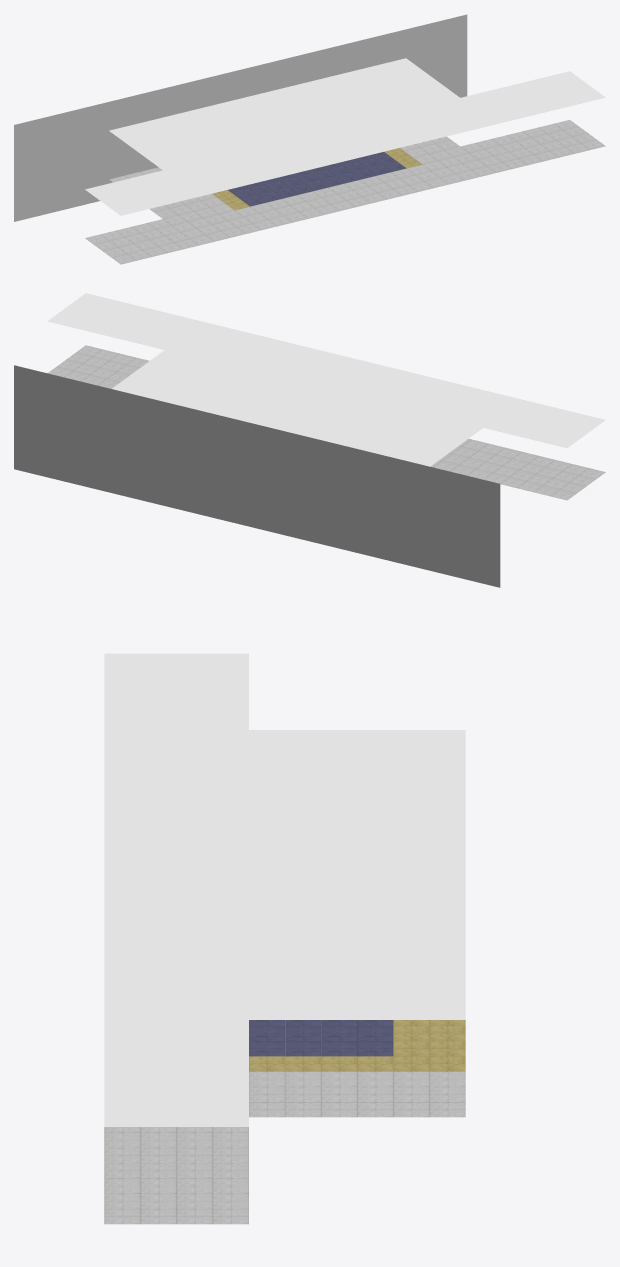
File: CW_Planes.fbx
3 renders of one model, top to bottom at view 1: azimuth 30°, elevation 25°; view 2: azimuth 150°, elevation 25°; view 3: azimuth 270°, elevation 25°, orthographic. The views are drawn at different scales.
Visible parts, largest first — view 1: Celling, CityView, Floor_Unity; view 2: CityView, Celling, Floor_Unity; view 3: Celling, Floor_Unity.
Boxes of the visible parts, x1,y1,x2,y2 form: Celling: [85, 58, 605, 215]; CityView: [14, 14, 467, 221]; Floor_Unity: [85, 120, 605, 264]; CityView: [14, 365, 500, 587]; Celling: [47, 293, 605, 466]; Floor_Unity: [48, 345, 605, 500]; Celling: [104, 653, 465, 1126]; Floor_Unity: [104, 1020, 465, 1224].
Bounding box in the file's own units: 3155 × 1148 × 598.
